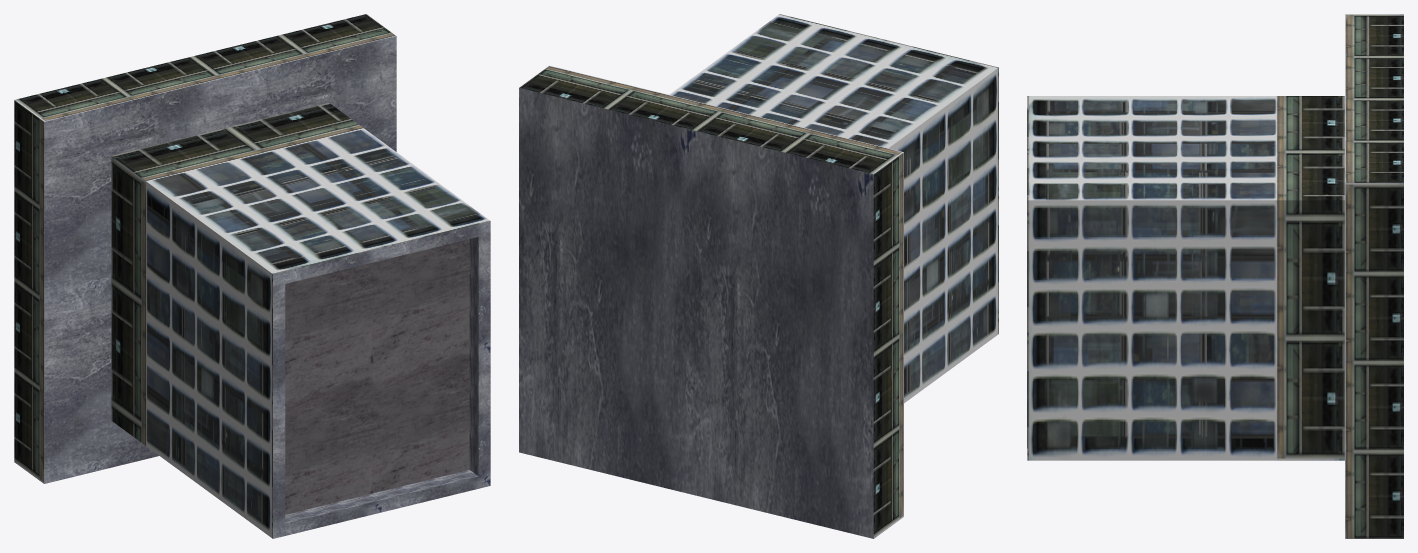
File: urbanoffice4b_wtf.obj
3 renders of one model, left to right at view 1: azimuth 30°, elevation 25°; view 2: azimuth 150°, elevation 25°; view 3: azimuth 270°, elevation 25°, orthographic. The views are drawn at different scales.
Visible parts, largest first — view 1: group5, group3, group4; view 2: group3, group5; view 3: group5.
Boxes of the visible parts, bbox=[...] form: group5: bbox=[14, 14, 490, 538]; group3: bbox=[44, 36, 490, 538]; group4: bbox=[285, 239, 469, 514]; group3: bbox=[519, 88, 873, 538]; group5: bbox=[519, 14, 998, 538]; group5: bbox=[1027, 14, 1403, 538].
Bounding box in the file's own units: 660 × 648 × 622.
